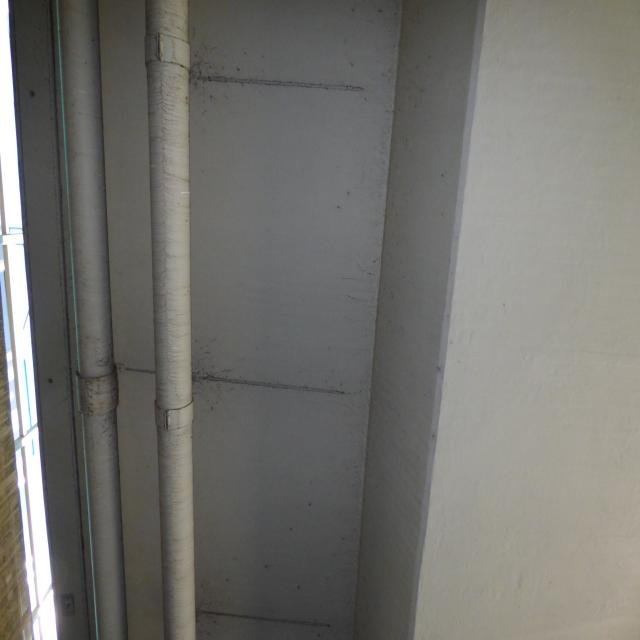corrosion: (47, 0, 128, 640), (144, 8, 209, 640)
